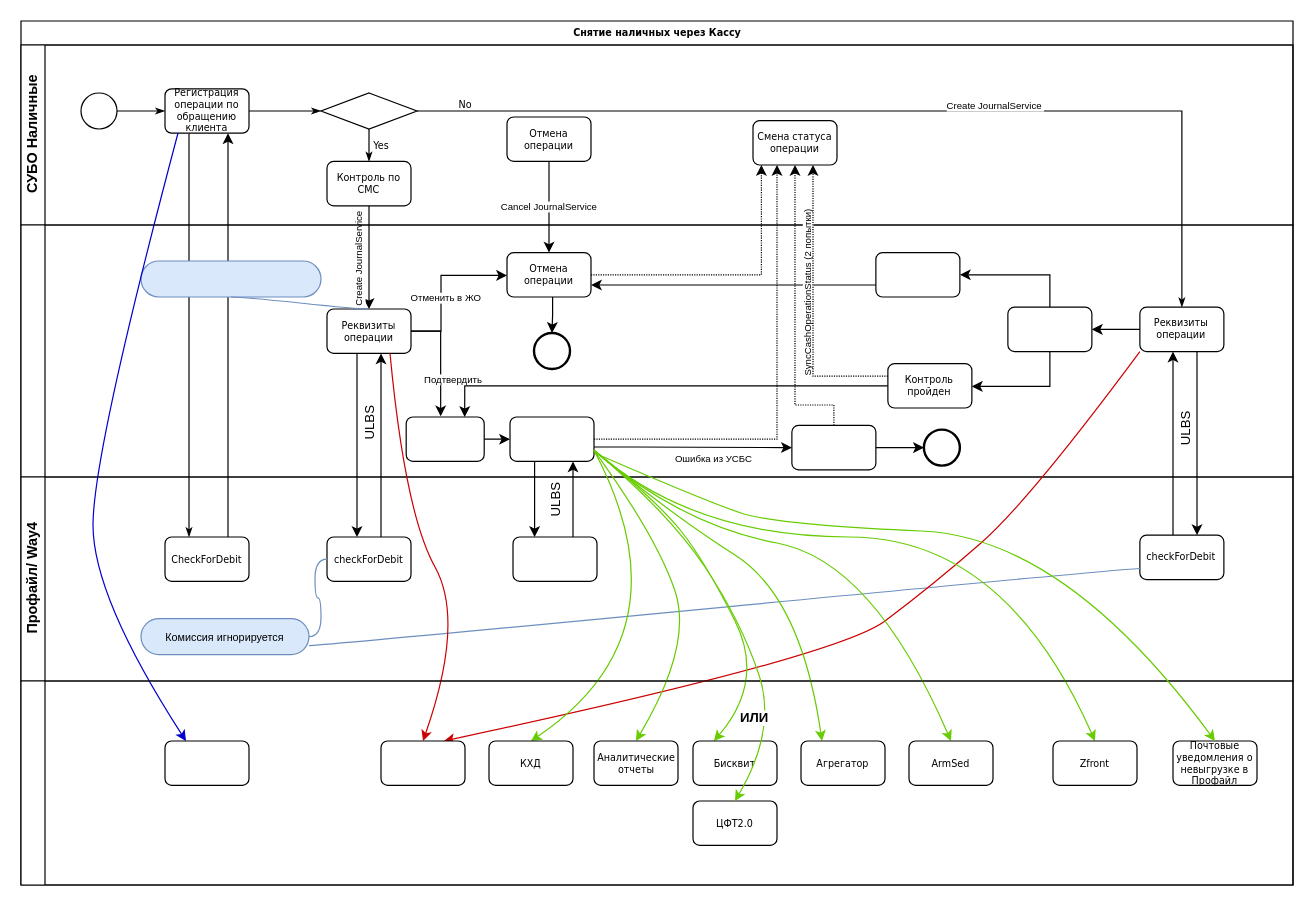
Some shapes in this 1314 by 906 pixel diagram are drawn without their labels. Each missing label, with the box of its shape:
DocsVision: (380, 740, 465, 785)
hold + post: (512, 536, 597, 581)
Аннулирование операции: (791, 424, 876, 470)
Есть телефон: (320, 92, 417, 129)
Контроль: (1007, 306, 1092, 352)
Контроль не пройден: (875, 251, 960, 297)
Передача КБО и комиссии: (140, 260, 321, 297)
Печать РКО + справка с НИВ (при необх-ти): (405, 416, 484, 461)
Подтверждение операции: (509, 416, 594, 461)
Смежные системы: (20, 680, 1293, 885)
Спектрум: (20, 224, 1293, 477)
СПМ: (164, 740, 249, 785)
